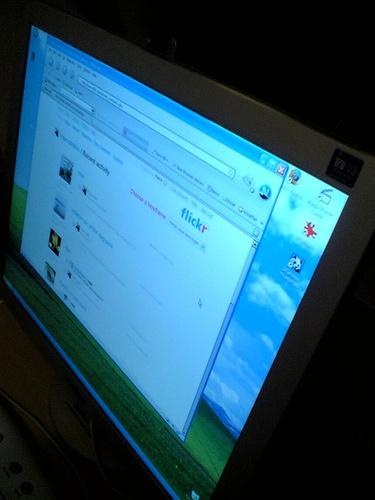tvmonitor: (3, 4, 375, 500)
